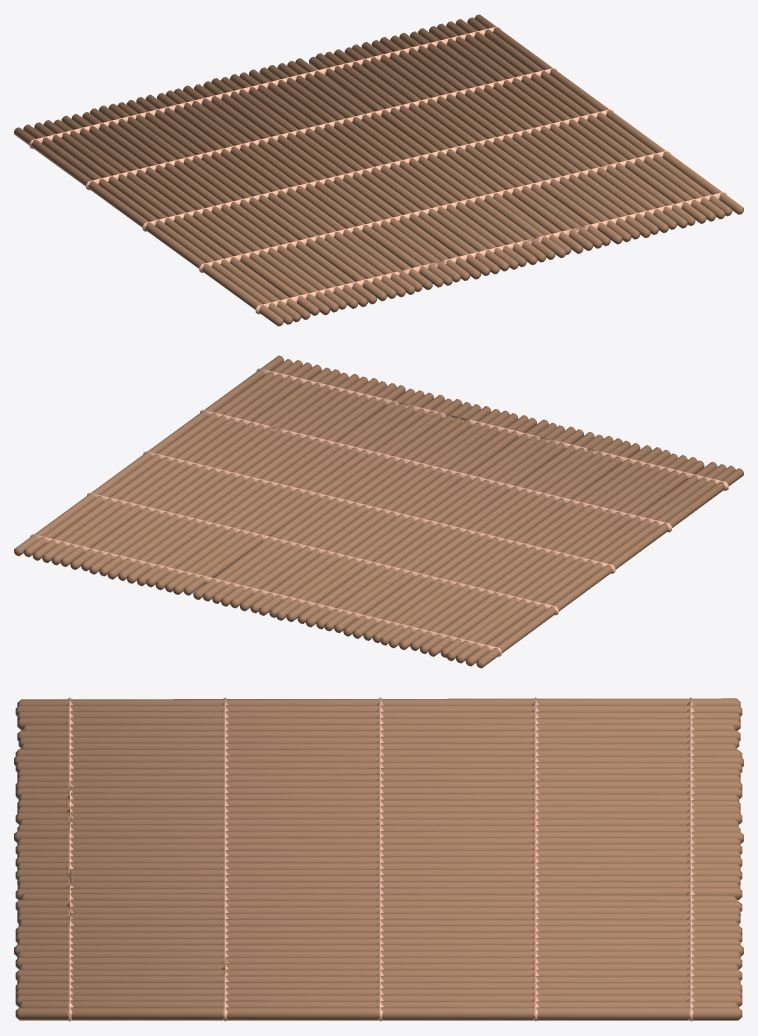
Rendered from Bal.fbx.
3 views of the same model, one above another, from view 1: azimuth 30°, elevation 25°; view 2: azimuth 150°, elevation 25°; view 3: azimuth 270°, elevation 25° (orthographic). The views are drawn at different scales.
Parts seen in each view (by area): view 1: Bal; view 2: Bal; view 3: Bal.
Boxes of the visible parts, x1,y1,x2,y2 form: Bal: (14, 14, 743, 326); Bal: (14, 355, 743, 668); Bal: (14, 697, 743, 1021).
Bounding box in the file's own units: 28.68 × 0.5257 × 28.04.
